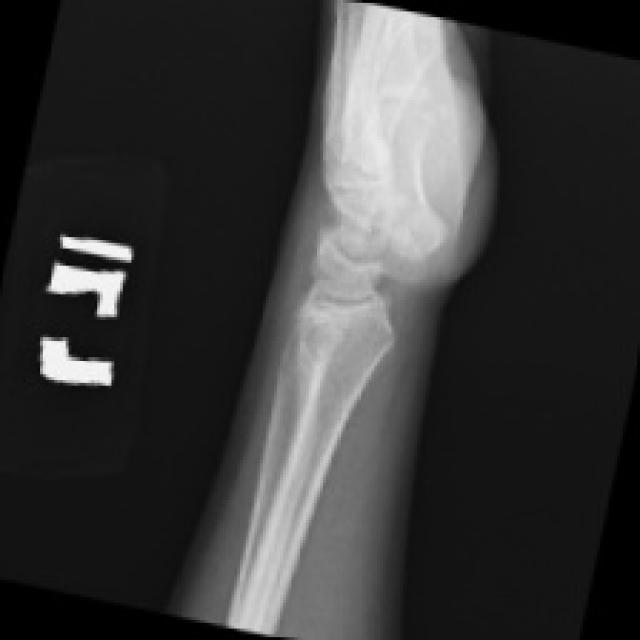fracture: (296, 177, 442, 400)
